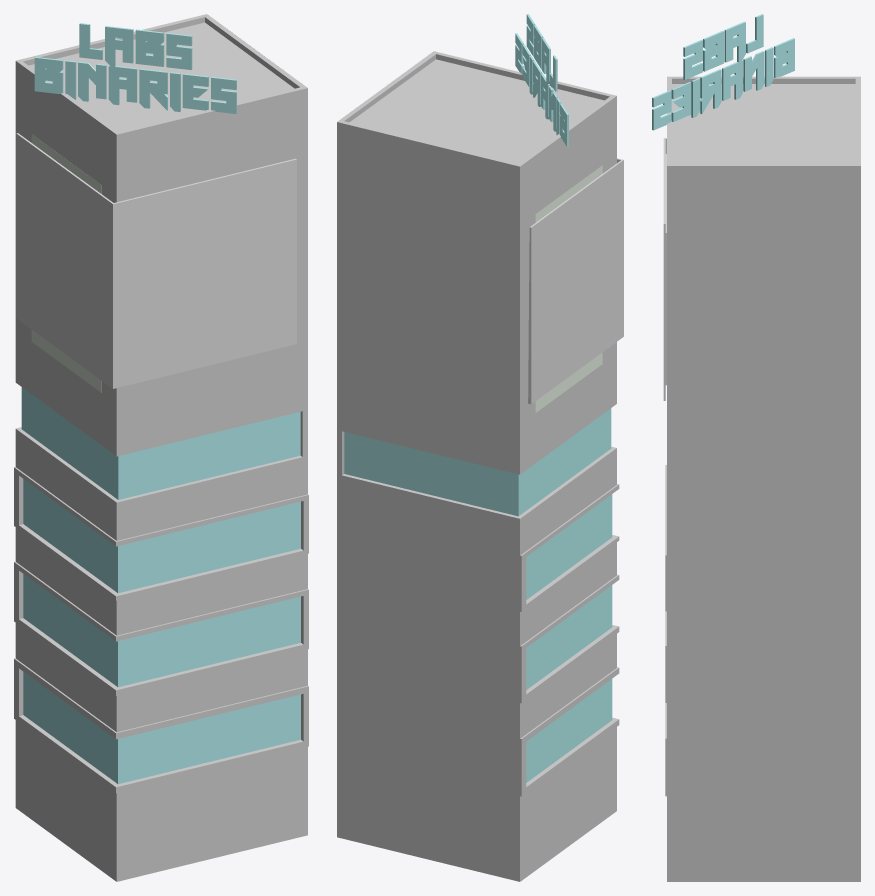
Rendered from EdificioConCartel-LabsIndustries.FBX.
3 renders of one model, left to right at view 1: azimuth 30°, elevation 25°; view 2: azimuth 150°, elevation 25°; view 3: azimuth 270°, elevation 25°, orthographic. The views are drawn at different scales.
Visible parts, largest first — view 1: Edificio_385, TV8, Ventana1392, VentanaCompleta, CARTEL 003; view 2: Edificio_385, TV8, VentanaCompleta, Ventana1392, CARTEL 003; view 3: Edificio_385, CARTEL 003, TV8.
Part boxes in pixels (x1,y1,x2,y2): Edificio_385: (14,14,308,881); TV8: (16,133,296,388); Ventana1392: (23,479,300,784); VentanaCompleta: (21,387,300,499); CARTEL 003: (34,23,236,113); Edificio_385: (337,51,619,881); TV8: (528,158,623,404); VentanaCompleta: (344,408,611,516); Ventana1392: (526,494,612,782); CARTEL 003: (515,14,568,146); Edificio_385: (665,76,860,881); CARTEL 003: (652,14,794,130); TV8: (663,138,666,400).
Size of the model in its own units: 27.23 by 103 by 24.79.
